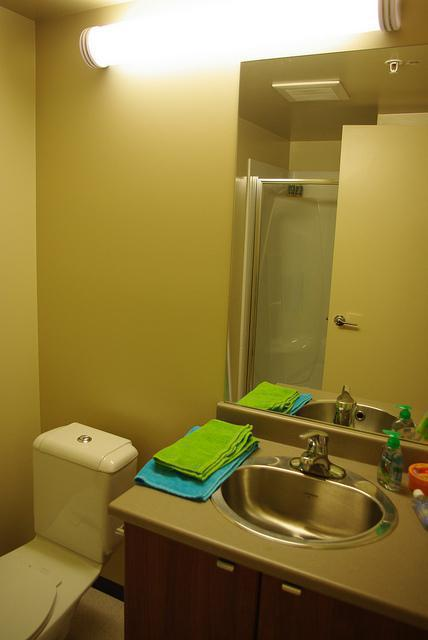Ducha: (234, 174, 423, 450)
Lavamanos: (205, 430, 404, 557)
Sanitario: (0, 419, 138, 639)
